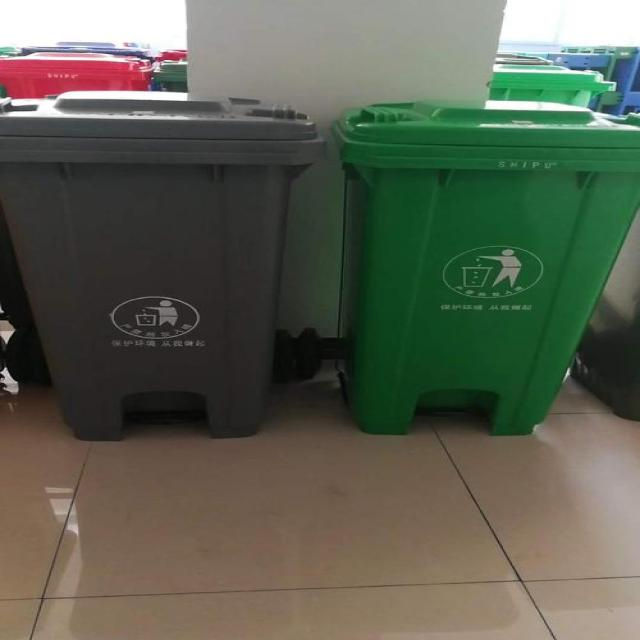garbage_bin: (0, 91, 323, 440), (332, 102, 638, 434)
